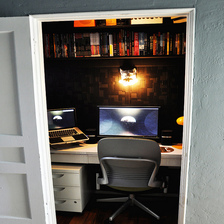laptop: (36, 107, 98, 152)
